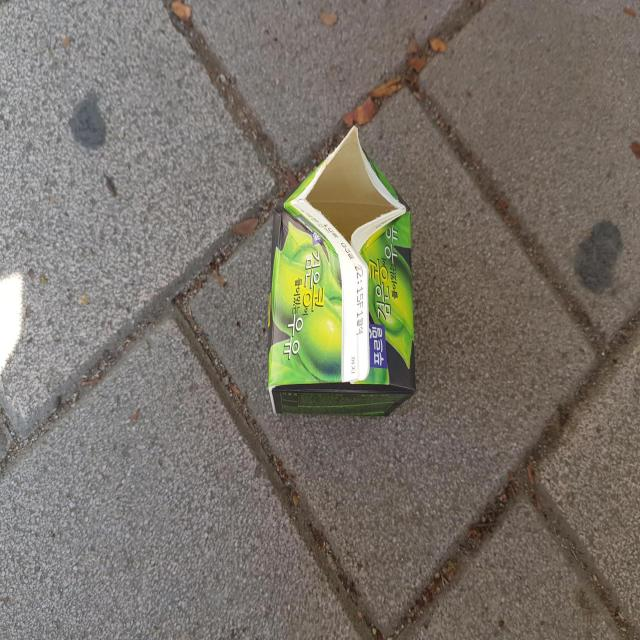paperpack: (268, 126, 416, 416)
